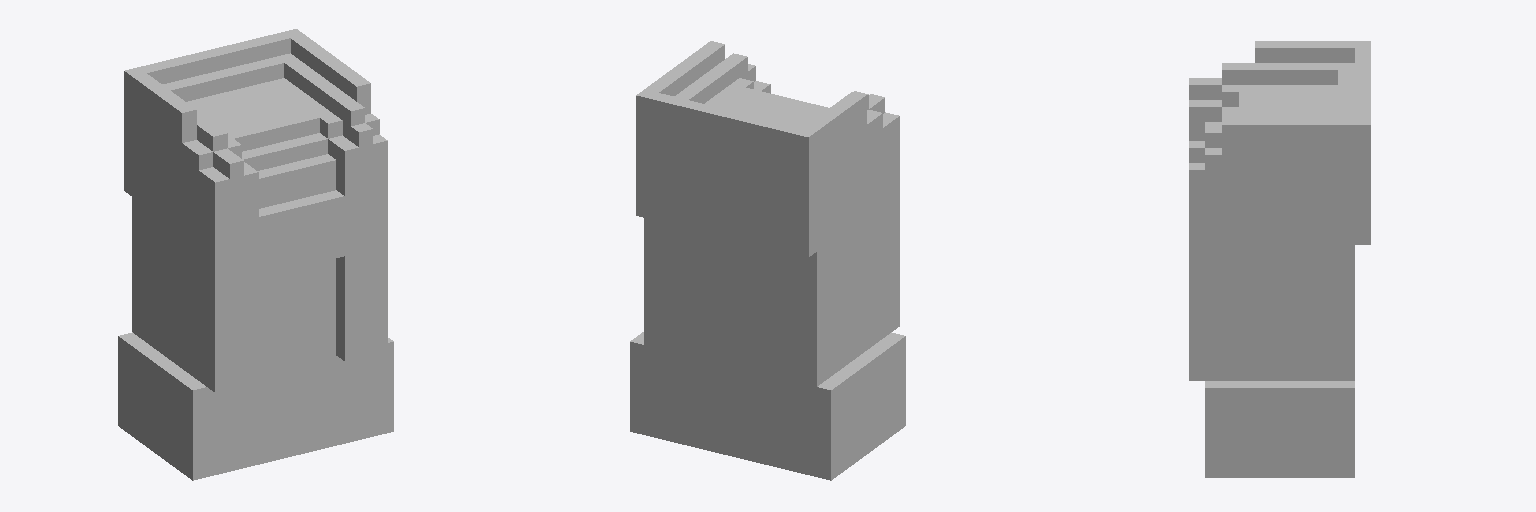
File: michiru body.obj
3 renders of one model, left to right at view 1: azimuth 30°, elevation 25°; view 2: azimuth 150°, elevation 25°; view 3: azimuth 270°, elevation 25°, orthographic.
Parts seen in each view (by area): view 1: Body; view 2: Body; view 3: Body.
Boxes of the visible parts, <box> form: Body: <box>118,29,393,480</box>; Body: <box>630,41,905,480</box>; Body: <box>1189,41,1370,477</box>.
Size of the model in its own units: 1.4 by 2.3 by 1.1.